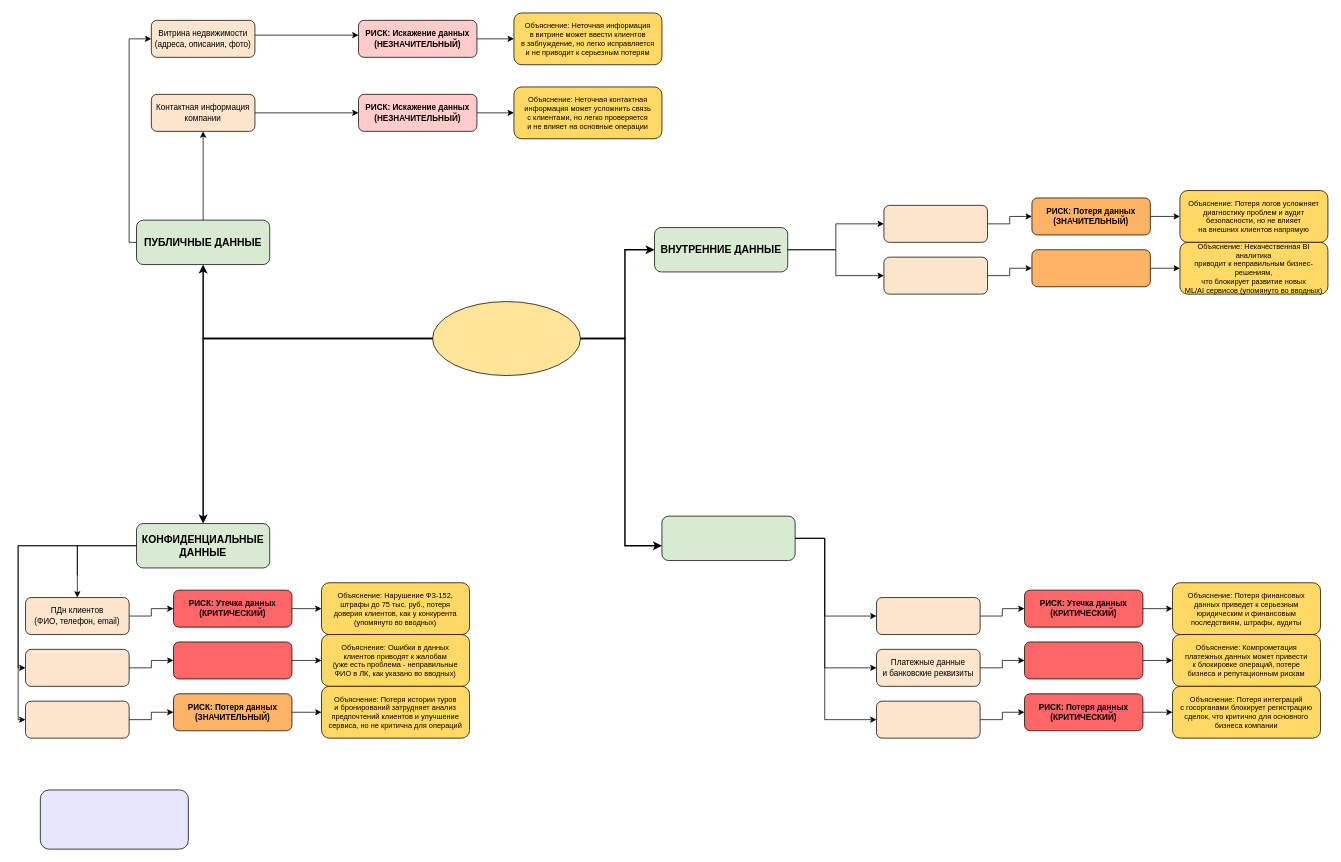
Image size: 1341x862. Some labels were removed from this diagram. Each missing label, with the centre of its shape:
BI отчеты и аналитика: [935,275]
Безопасность данных PropDevelopment: [506,338]
Данные собственников (УК, услуги ЖКХ): [77,667]
Интеграции с госорганами (СМЭВ, регистрация сделок): [928,719]
История онлайн-туров и бронирований: [77,719]
Логи системы (auth-service, CRM): [935,223]
РИСК: Искажение данных (КРИТИЧЕСКИЙ): [232,660]
РИСК: Некачественные данные (ЗНАЧИТЕЛЬНЫЙ): [1090,268]
РИСК: Обесценивание данных (КРИТИЧЕСКИЙ): [1083,660]
СЕКРЕТНЫЕ ДАННЫЕ: [728,538]
Финансовые данные (accountant-service): [928,616]
🟡 Незначительный риск 🟠 Значительный риск 🔴 Критический риск: [114,819]
